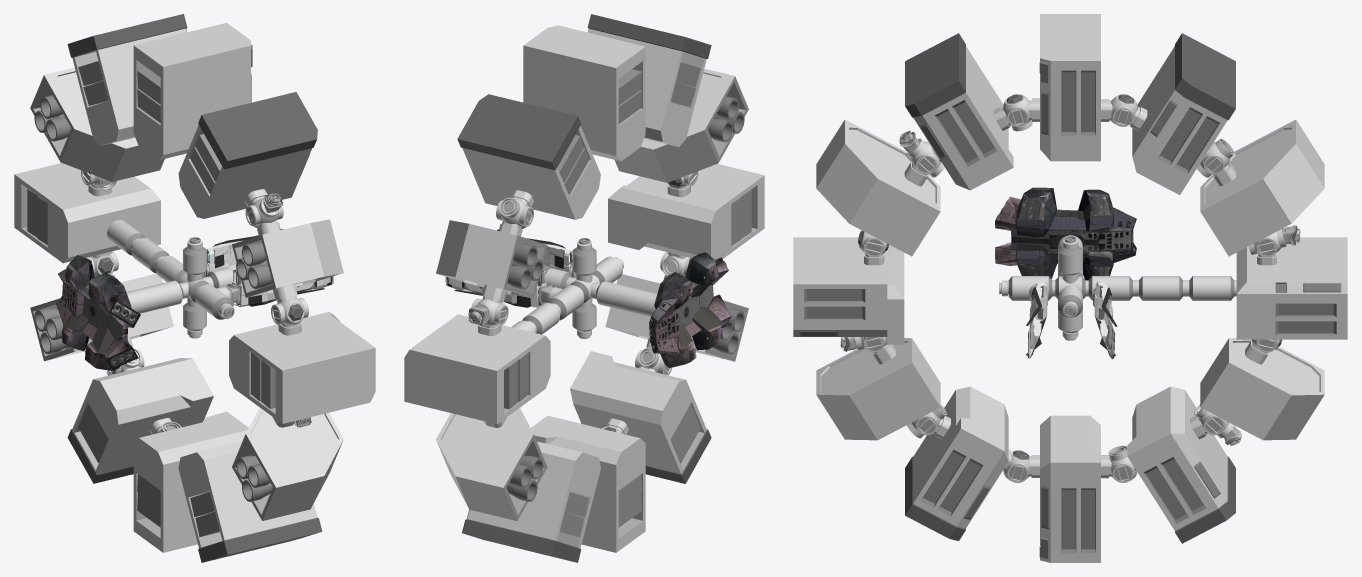
The model's file is endurance + ranger + ranger.glb.
The picture shows the model from 3 angles, left to right: view 1: azimuth 30°, elevation 25°; view 2: azimuth 150°, elevation 25°; view 3: azimuth 270°, elevation 25°; orthographic projection. The views are drawn at different scales.
Visible parts, largest first — view 1: EnduranceShip, EnduranceShip.002, Object_4, EnduranceShip.001, Connector.008, Connector.007, Plane_1.001, Plane_1, Connector.001; view 2: EnduranceShip, EnduranceShip.002, Object_4, EnduranceShip.001, Connector.0011, Connector, Connector.005, Plane_1, Connector.006, Plane_1.001; view 3: EnduranceShip, Object_4, EnduranceShip.002, EnduranceShip.001, Object_3, Connector.008, Connector, Connector.002, Plane_1, Connector.0011, Connector.009, Plane_1.001 (+3 smaller).
Boxes of the visible parts, bbox=[...] form: EnduranceShip: bbox=[14, 14, 375, 562]; EnduranceShip.002: bbox=[34, 95, 272, 501]; Object_4: bbox=[56, 255, 140, 371]; EnduranceShip.001: bbox=[88, 184, 301, 434]; Connector.008: bbox=[245, 193, 283, 228]; Connector.007: bbox=[271, 298, 308, 325]; Plane_1.001: bbox=[233, 269, 333, 306]; Plane_1: bbox=[206, 229, 283, 270]; Connector.001: bbox=[86, 251, 118, 276]; EnduranceShip: bbox=[404, 14, 764, 562]; EnduranceShip.002: bbox=[506, 96, 744, 501]; Object_4: bbox=[649, 252, 731, 367]; EnduranceShip.001: bbox=[478, 184, 690, 434]; Connector.0011: bbox=[496, 197, 533, 229]; Connector: bbox=[468, 298, 508, 325]; Connector.005: bbox=[635, 347, 672, 375]; Plane_1: bbox=[445, 271, 545, 307]; Connector.006: bbox=[660, 252, 690, 276]; Plane_1.001: bbox=[543, 243, 571, 271]; EnduranceShip: bbox=[793, 14, 1347, 562]; Object_4: bbox=[995, 187, 1136, 280]; EnduranceShip.002: bbox=[1001, 235, 1236, 338]; EnduranceShip.001: bbox=[864, 98, 1276, 478]; Object_3: bbox=[1011, 192, 1133, 266]; Connector.008: bbox=[899, 130, 944, 177]; Connector: bbox=[1248, 225, 1299, 257]; Connector.002: bbox=[1194, 404, 1241, 446]; Plane_1: bbox=[1094, 281, 1115, 359]; Connector.0011: bbox=[1197, 138, 1234, 177]; Connector.009: bbox=[1003, 94, 1032, 131]; Plane_1.001: bbox=[1027, 282, 1047, 358].
Bounding box in the file's own units: 27.92 × 54.6 × 54.6.
Materials: 27 (3 with a texture image).
